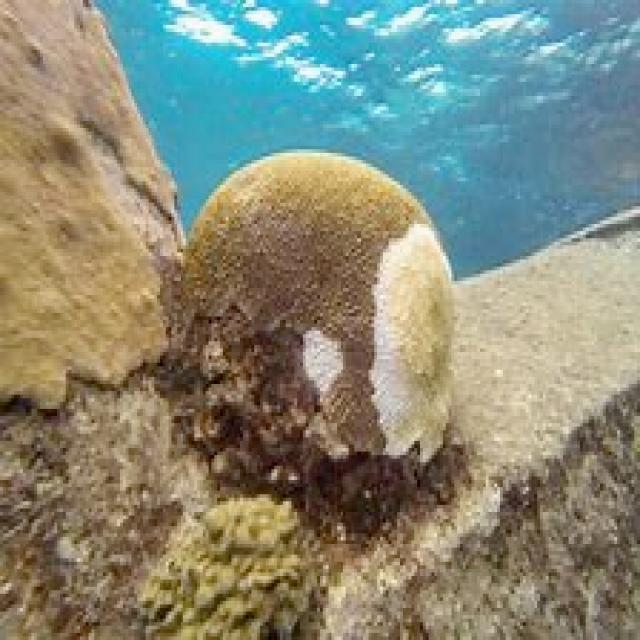Coral: (182, 150, 454, 555), (138, 495, 329, 640)
